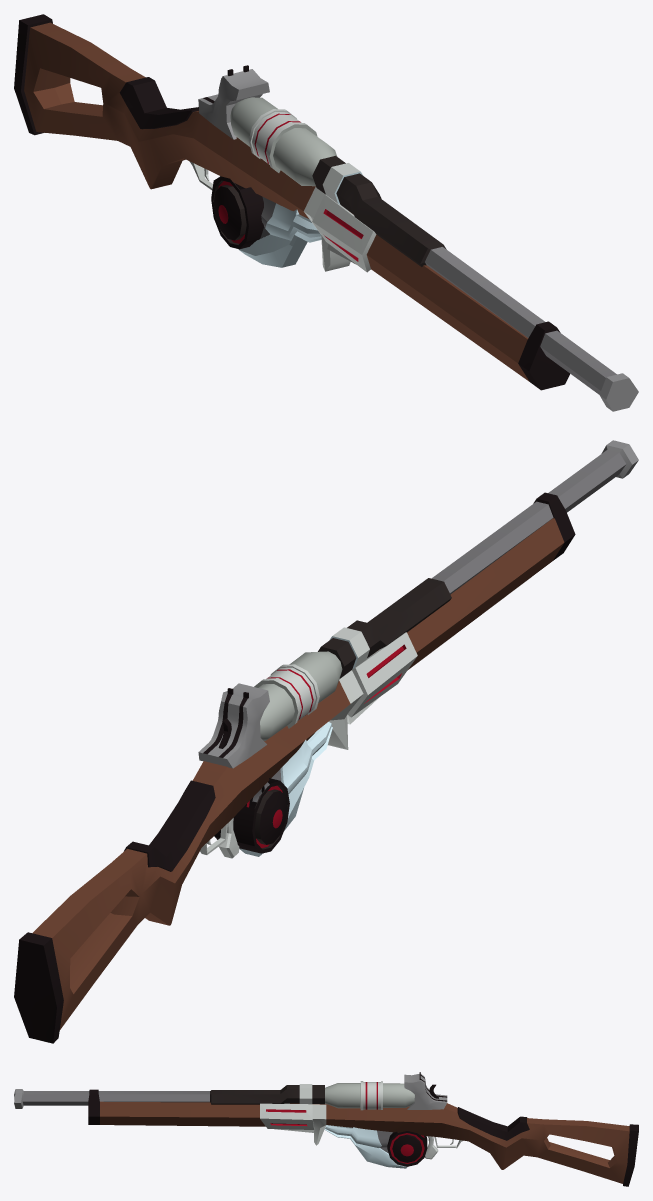
Rendered from Rifle 1.fbx.
The picture shows the model from 3 angles, top to bottom: view 1: azimuth 30°, elevation 25°; view 2: azimuth 150°, elevation 25°; view 3: azimuth 270°, elevation 25°; orthographic projection. The views are drawn at different scales.
Parts seen in each view (by area): view 1: Rifle; view 2: Rifle; view 3: Rifle.
Part boxes in pixels (bbox=[...]): Rifle: bbox=[14, 14, 638, 411]; Rifle: bbox=[14, 440, 638, 1043]; Rifle: bbox=[14, 1072, 638, 1186].
Bounding box in the file's own units: 38.73 × 134 × 697.
Materials: 1 (1 with a texture image).
